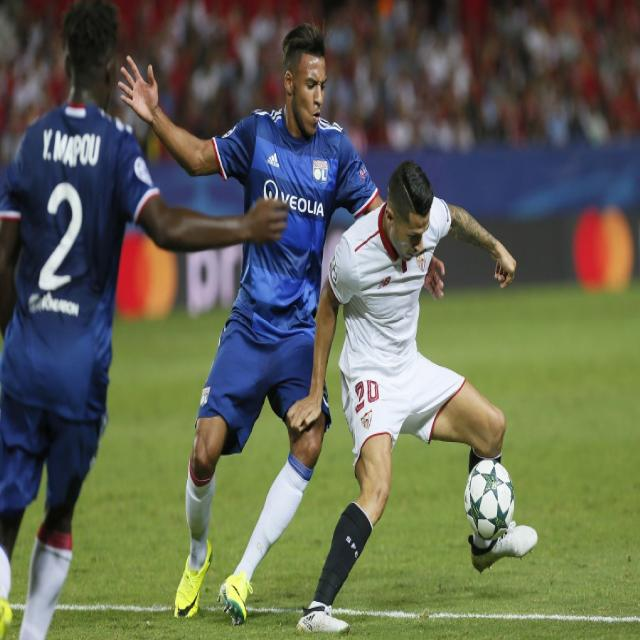body: (116, 16, 447, 631), (1, 0, 292, 639), (283, 155, 540, 632), (357, 0, 639, 150), (124, 0, 285, 122), (0, 3, 66, 185), (319, 0, 357, 127)
